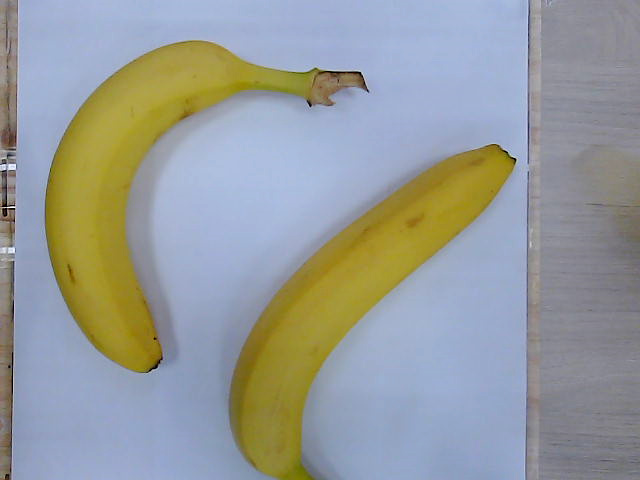fresh_banana: (44, 40, 369, 373), (231, 140, 517, 480)
